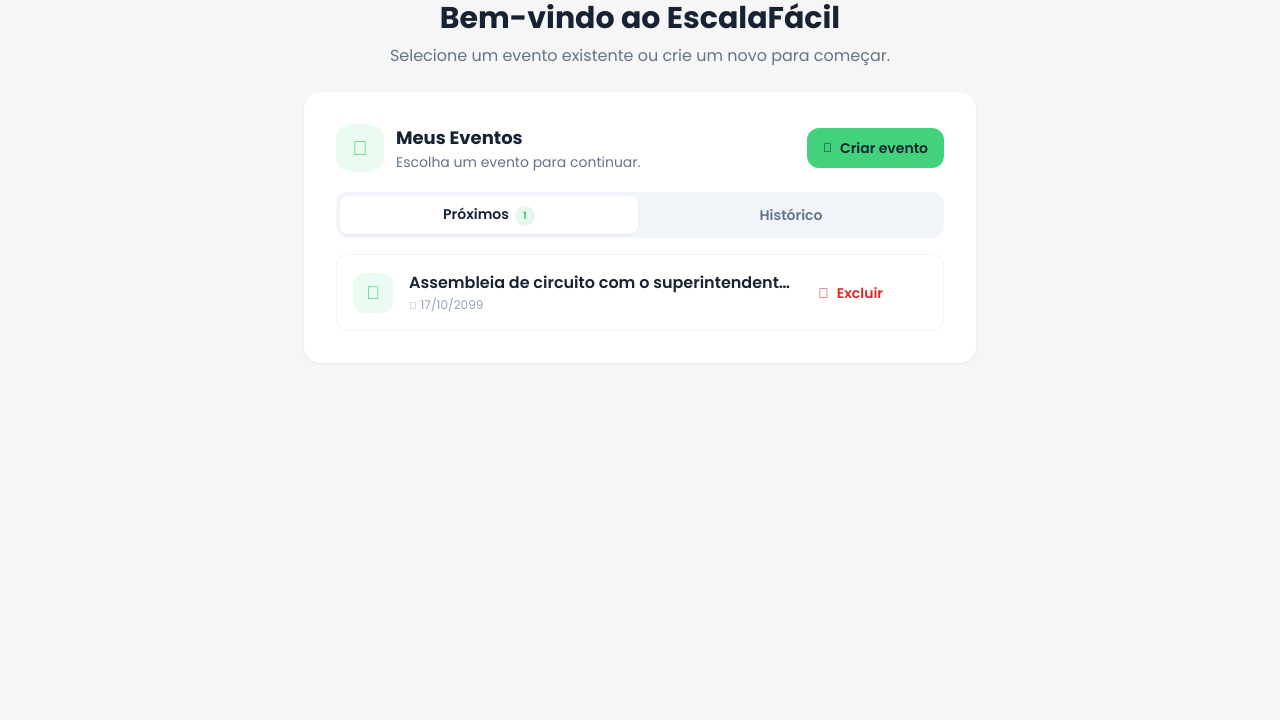
Test: EventSelector event deletion permissions › asks for Assembleia when deleting an assembly event
Click the button named "Excluir evento": (851, 292) [806,274,895,310]
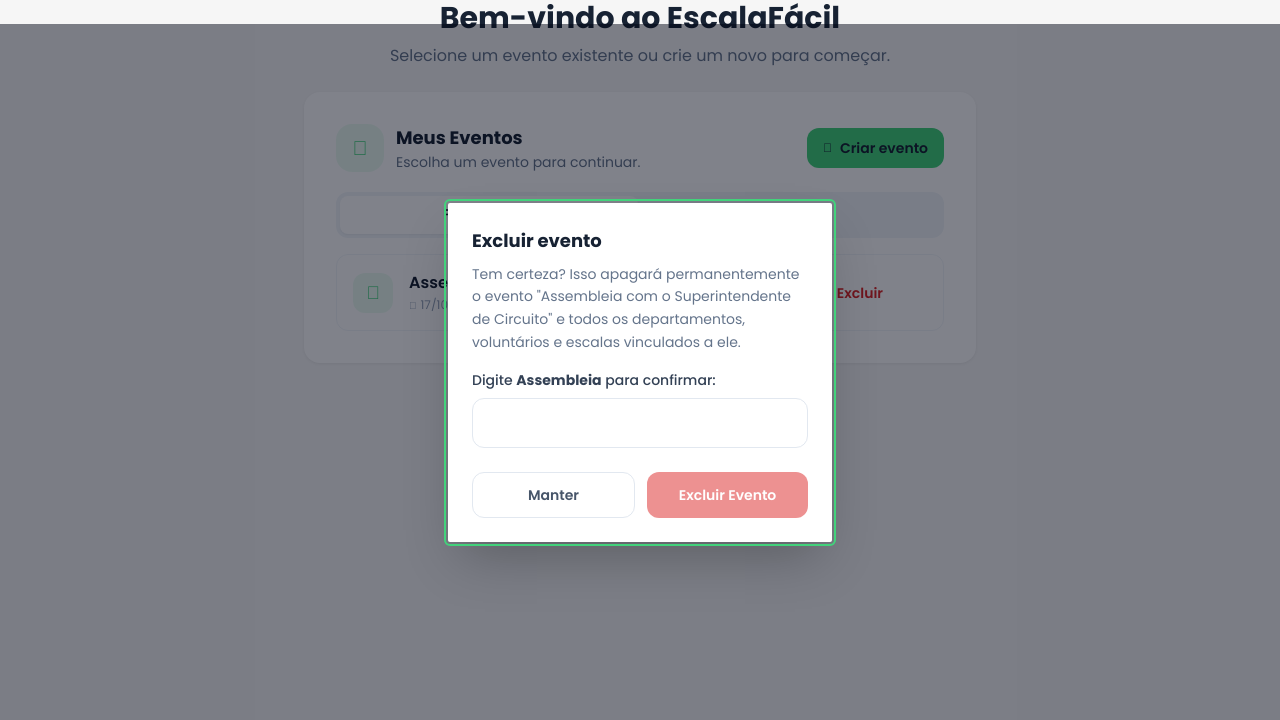
Expected: the field labelled "Digite Assembleia" is shown, [472,398,808,448]
Expected: the button "Excluir Evento" is disabled, [647,472,808,518]
